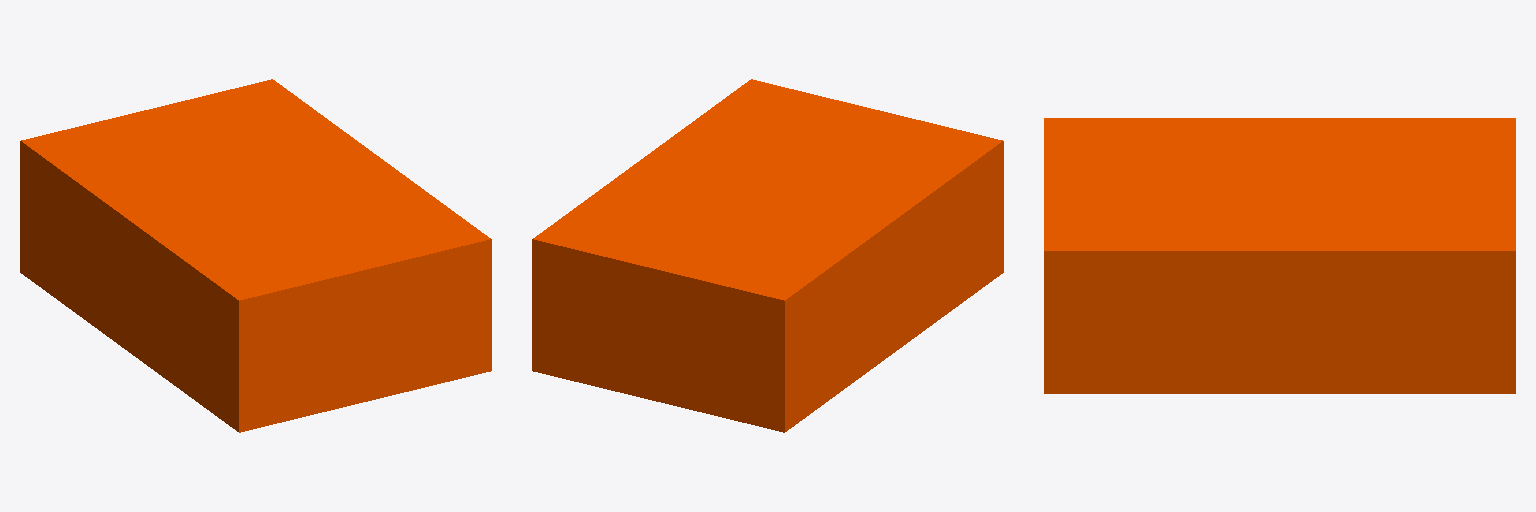
robot.urdf — index:
<?xml version="1.0"?>
<robot name="index">

	<material name="orange">
		<color rgba="1 0.4 0 1"/>
	</material>
	<material name="gold">
		<color rgba="1 0.7 0 1"/>
	</material>
	<material name="coral">
		<color rgba="1 0.5 0.2 1"/>
	</material>

	<link name="base_link">
		<visual>
			<geometry>
				<box size="0.1 0.15 0.05" />
			</geometry>
			<material name="orange"/>
		</visual>
	</link>
</robot>

--- What the picture shows (computed from the rendered views, not written in the file) ---
The picture shows the robot from 3 angles, left to right: view 1: azimuth 30°, elevation 25°; view 2: azimuth 150°, elevation 25°; view 3: azimuth 270°, elevation 25°; orthographic projection.
Robot: index — 1 links, 0 joints (none); root link base_link; default pose: every joint at zero.
Visible links, largest first — view 1: base_link; view 2: base_link; view 3: base_link.
Boxes of the visible links, x1,y1,x2,y2 form: base_link: (20, 79, 491, 432); base_link: (532, 79, 1003, 432); base_link: (1044, 118, 1515, 393).
Size in the robot's own frame: 0.1 by 0.15 by 0.05 metres.
Geometry: primitives only (box / cylinder / sphere), no mesh files.